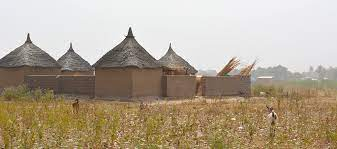Mud House: (93, 27, 162, 103), (2, 34, 59, 96), (153, 43, 203, 96), (54, 43, 96, 95)
